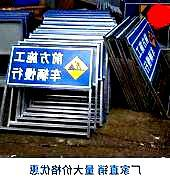sign: (11, 48, 91, 89), (132, 25, 157, 79)
